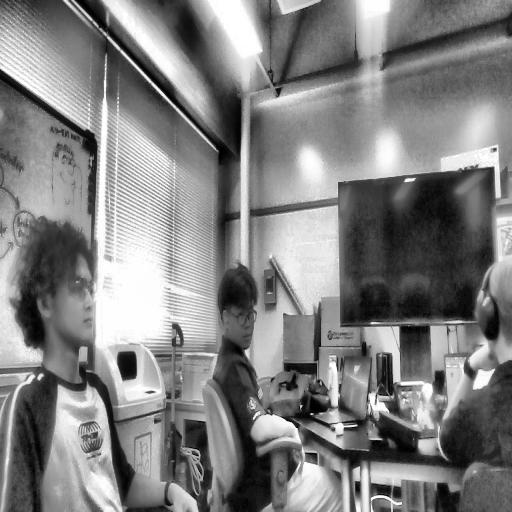Daifuku: (6, 222, 97, 362)
Not Daifuku: (215, 262, 262, 357), (475, 258, 512, 363)
